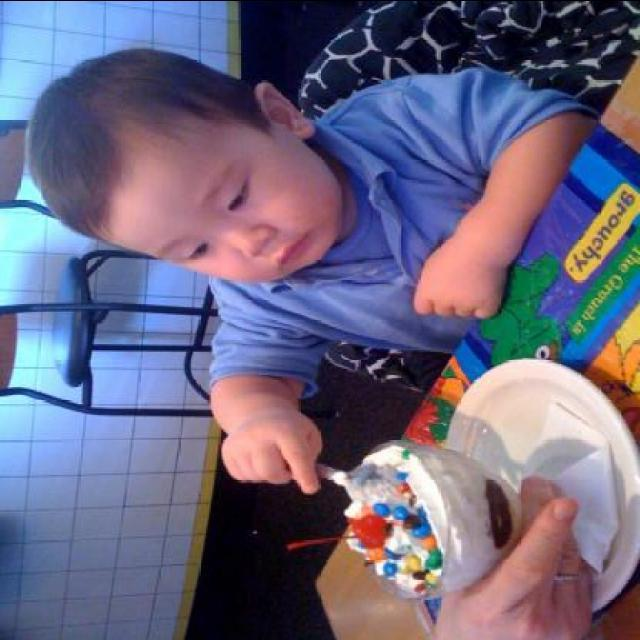Ice cream: (320, 442, 529, 614)
